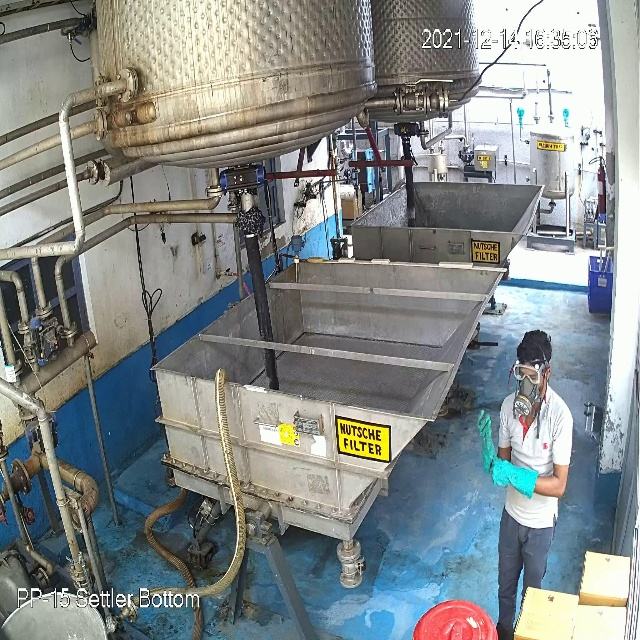Gafas: (511, 358, 545, 387)
Mascara: (512, 382, 544, 418)
